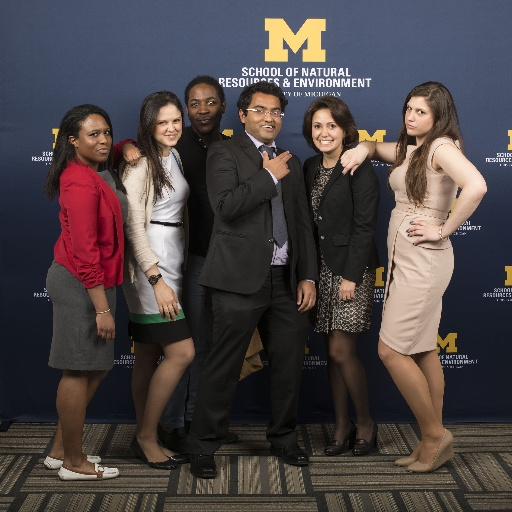hand: (404, 218, 445, 247), (154, 280, 181, 321), (337, 144, 369, 178), (262, 150, 293, 182), (93, 307, 117, 342), (295, 280, 317, 314), (121, 141, 143, 168), (339, 281, 357, 305)
